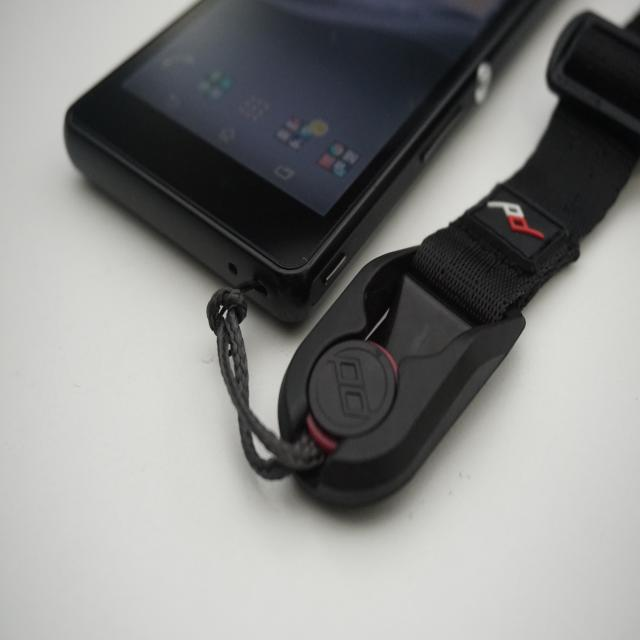Mobile-phone: (87, 12, 550, 270)
